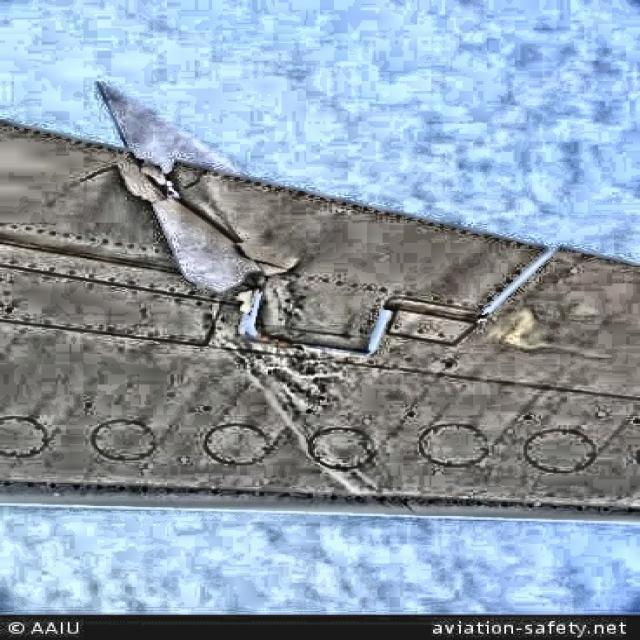crack: (71, 158, 315, 297)
